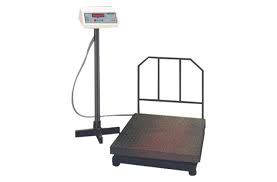Industrial Scale: (70, 7, 206, 176)
